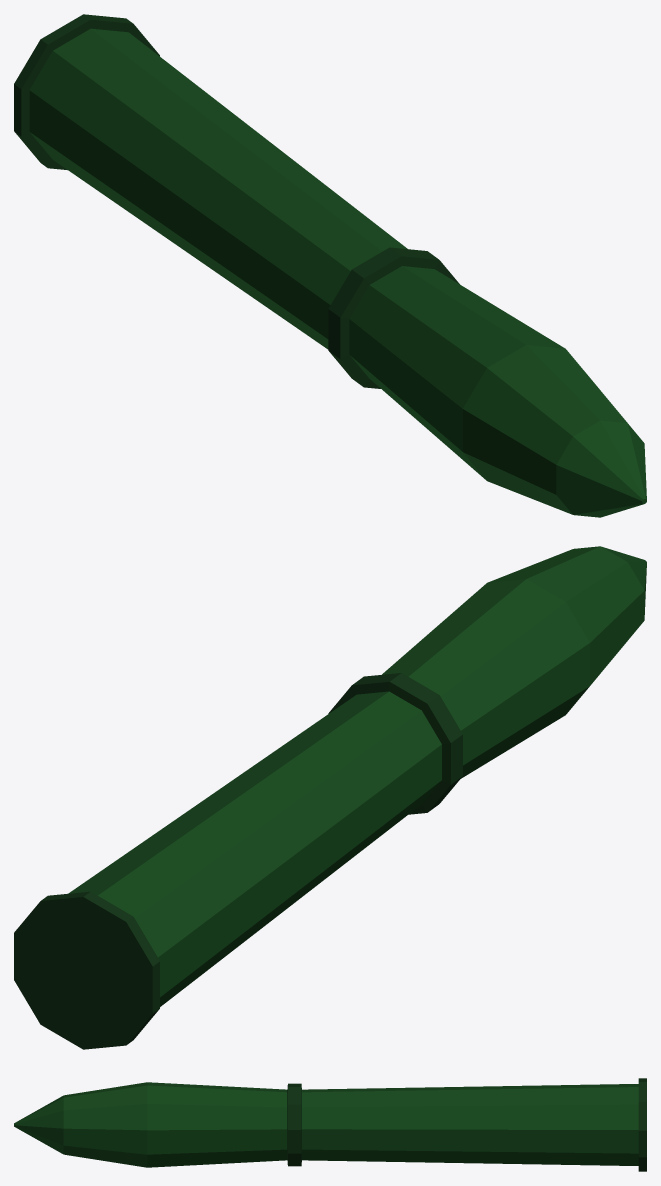
Rendered from shell.fbx.
The picture shows the model from 3 angles, top to bottom: view 1: azimuth 30°, elevation 25°; view 2: azimuth 150°, elevation 25°; view 3: azimuth 270°, elevation 25°; orthographic projection. The views are drawn at different scales.
Visible parts, largest first — view 1: Mesh; view 2: Mesh; view 3: Mesh.
Part boxes in pixels (<box>): Mesh: <box>14,14,646,517</box>; Mesh: <box>14,546,646,1049</box>; Mesh: <box>14,1078,646,1171</box>.
Size of the model in its own units: 0.2337 by 0.2458 by 1.64.
